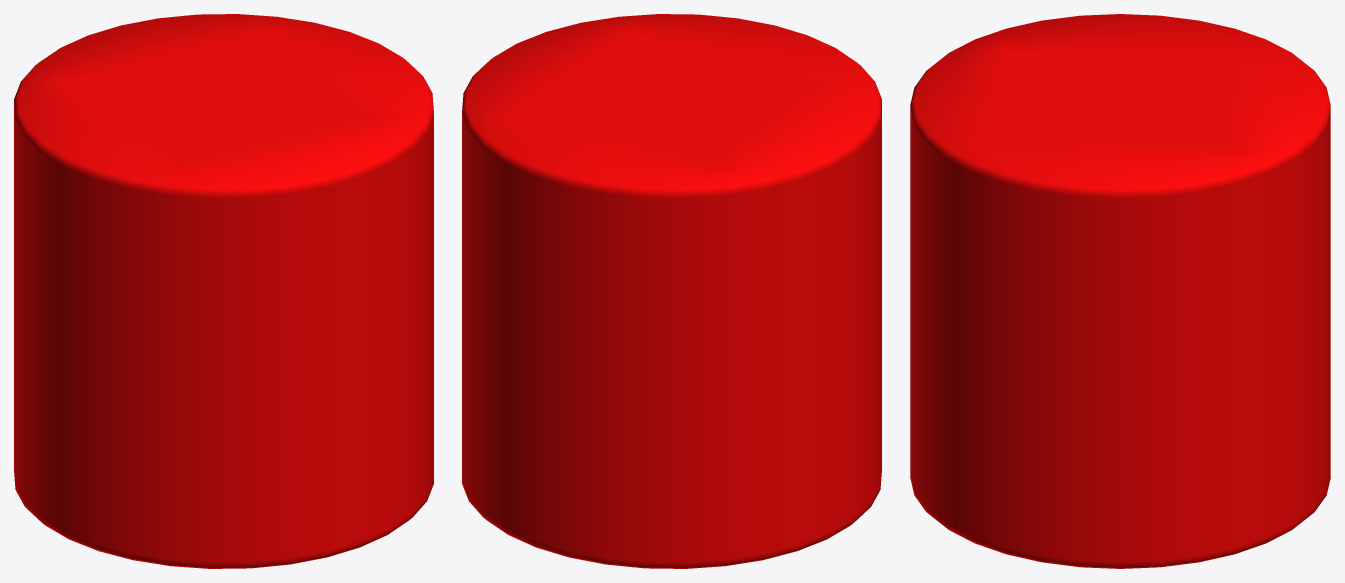
File: Dungeon_RoundColumnSmall.fbx
The picture shows the model from 3 angles, left to right: view 1: azimuth 30°, elevation 25°; view 2: azimuth 150°, elevation 25°; view 3: azimuth 270°, elevation 25°; orthographic projection.
Visible parts, largest first — view 1: ColumnSmallRound; view 2: ColumnSmallRound; view 3: ColumnSmallRound.
Boxes of the visible parts, box(x1,y1,x2,y2) form: ColumnSmallRound: box(14, 14, 433, 568); ColumnSmallRound: box(462, 14, 881, 568); ColumnSmallRound: box(910, 14, 1330, 568).
Size of the model in its own units: 250 by 250 by 250.
